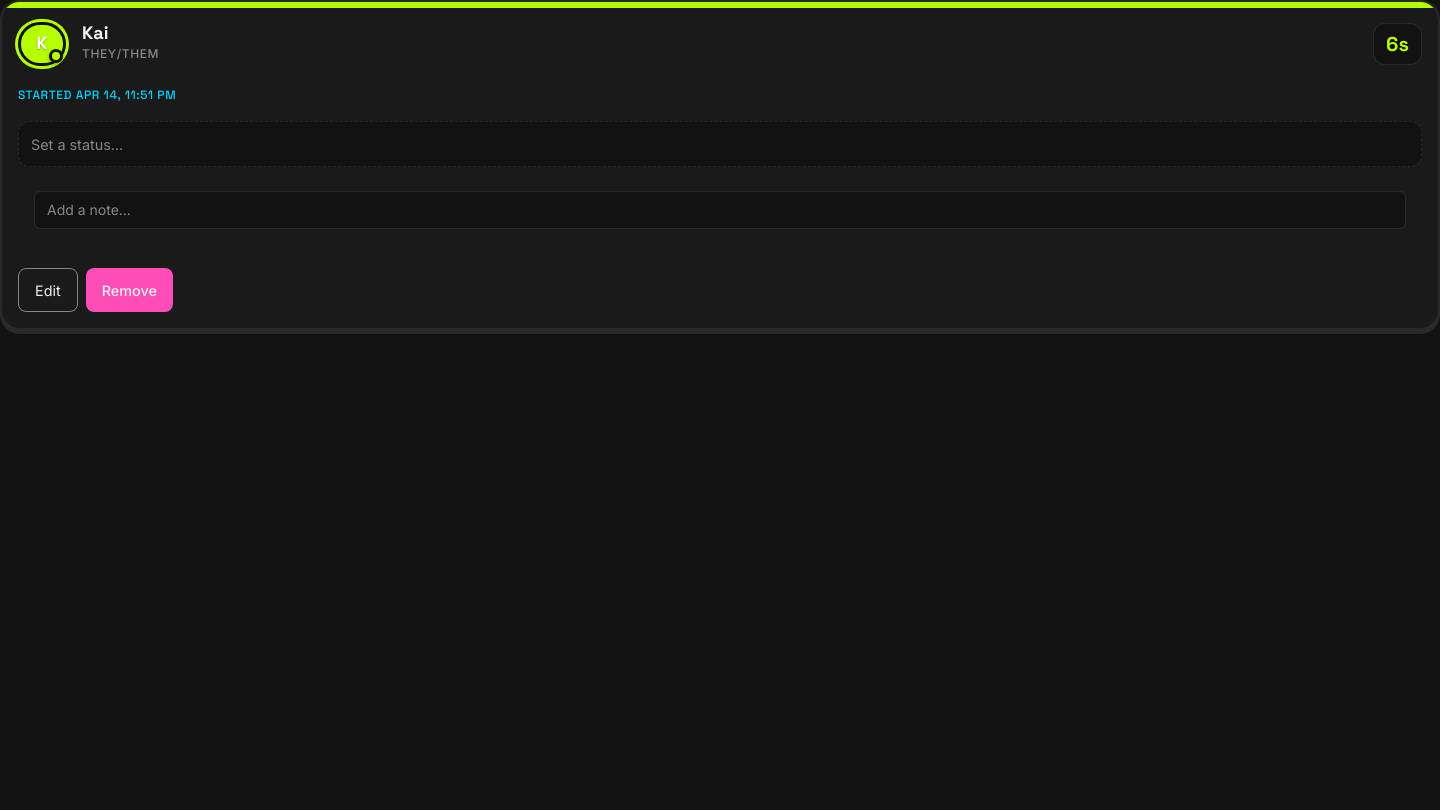
Test: tapping status button opens picker sheet
Step 1. Click the button with aria-label "edit status" → click(77, 144), box [31,122,1409,166]
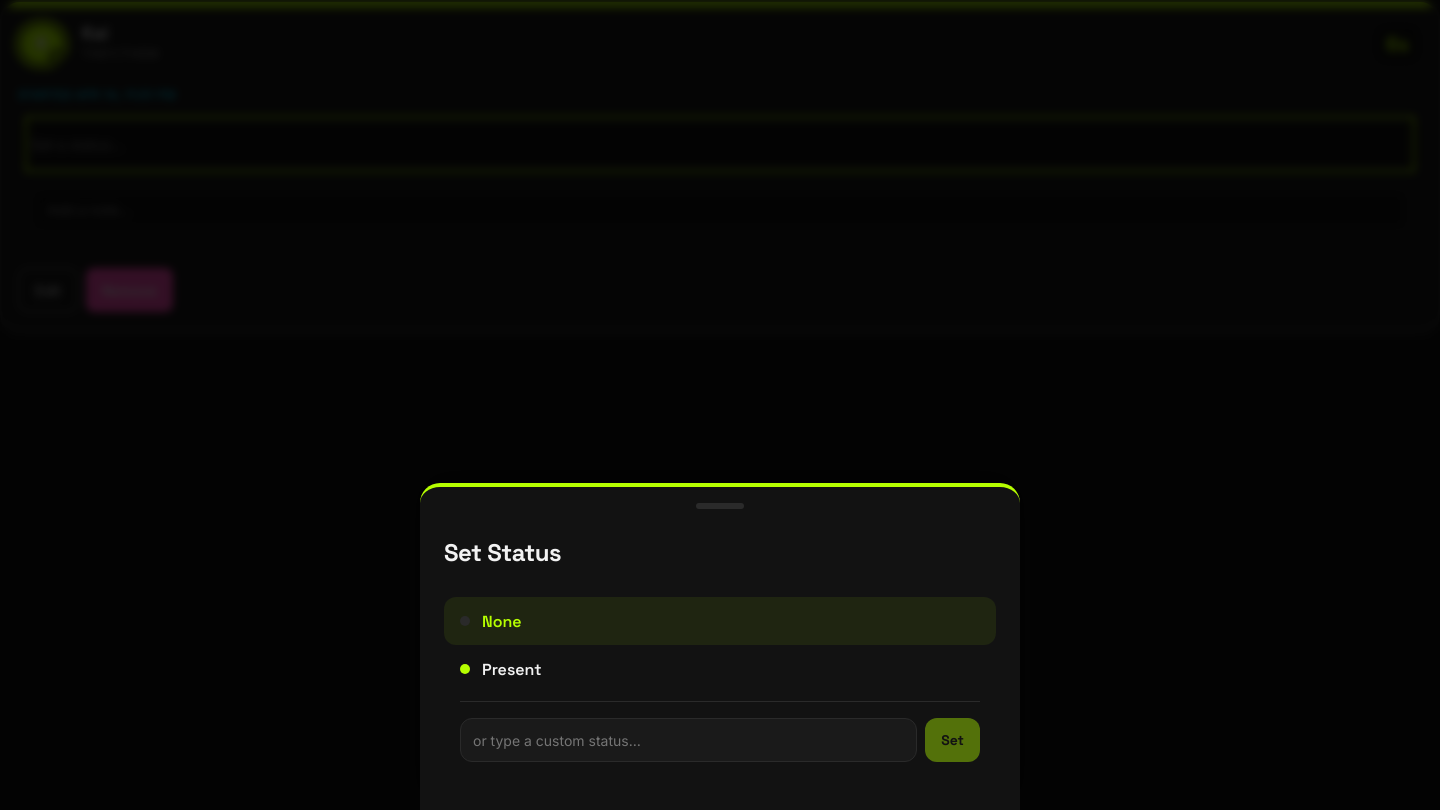
Now the dialog "Set Status None Present Set" is shown, box [420,483,1020,809]
